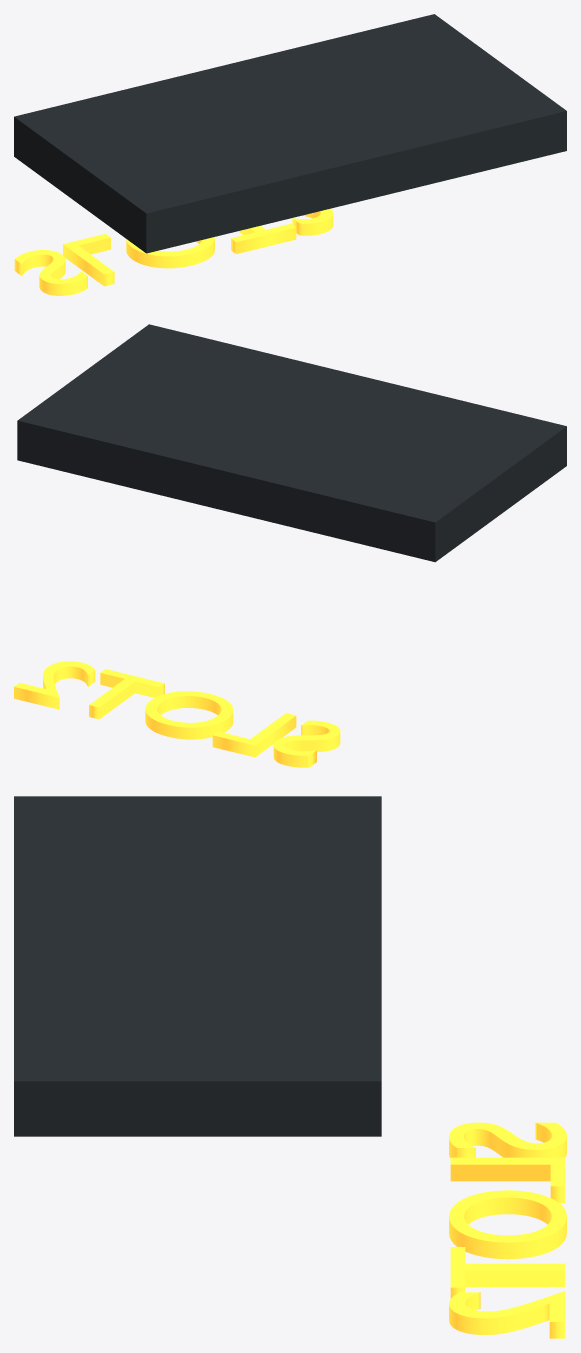
Rendered from SLOT2.glb.
The picture shows the model from 3 angles, top to bottom: view 1: azimuth 30°, elevation 25°; view 2: azimuth 150°, elevation 25°; view 3: azimuth 270°, elevation 25°; orthographic projection. The views are drawn at different scales.
Visible parts, largest first — view 1: SLOT2, LABEL_SLOT2; view 2: SLOT2, LABEL_SLOT2; view 3: SLOT2, LABEL_SLOT2.
Boxes of the visible parts, <box> form: SLOT2: <box>14,14,566,253</box>; LABEL_SLOT2: <box>14,208,333,295</box>; SLOT2: <box>17,324,566,562</box>; LABEL_SLOT2: <box>14,661,340,767</box>; SLOT2: <box>14,796,381,1136</box>; LABEL_SLOT2: <box>449,1122,566,1338</box>.
Bounding box in the file's own units: 0.22 × 0.108 × 0.1805.
